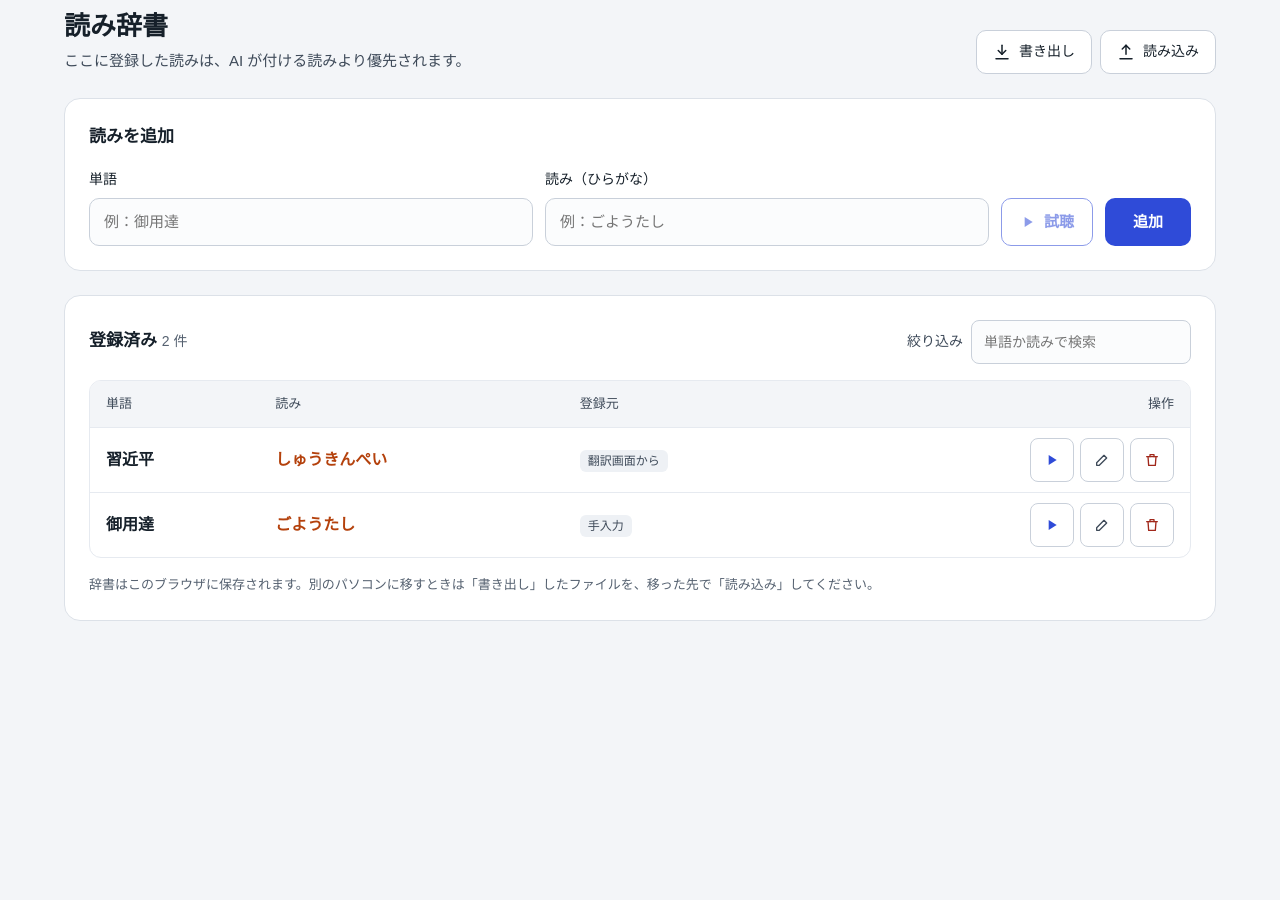
Dictionary 追加 › 漢字を含まない単語は読みを固定できないので追加しない
Step 1. Type "NATO" into the field labelled "単語" → (311, 222), box [89,198,533,246]
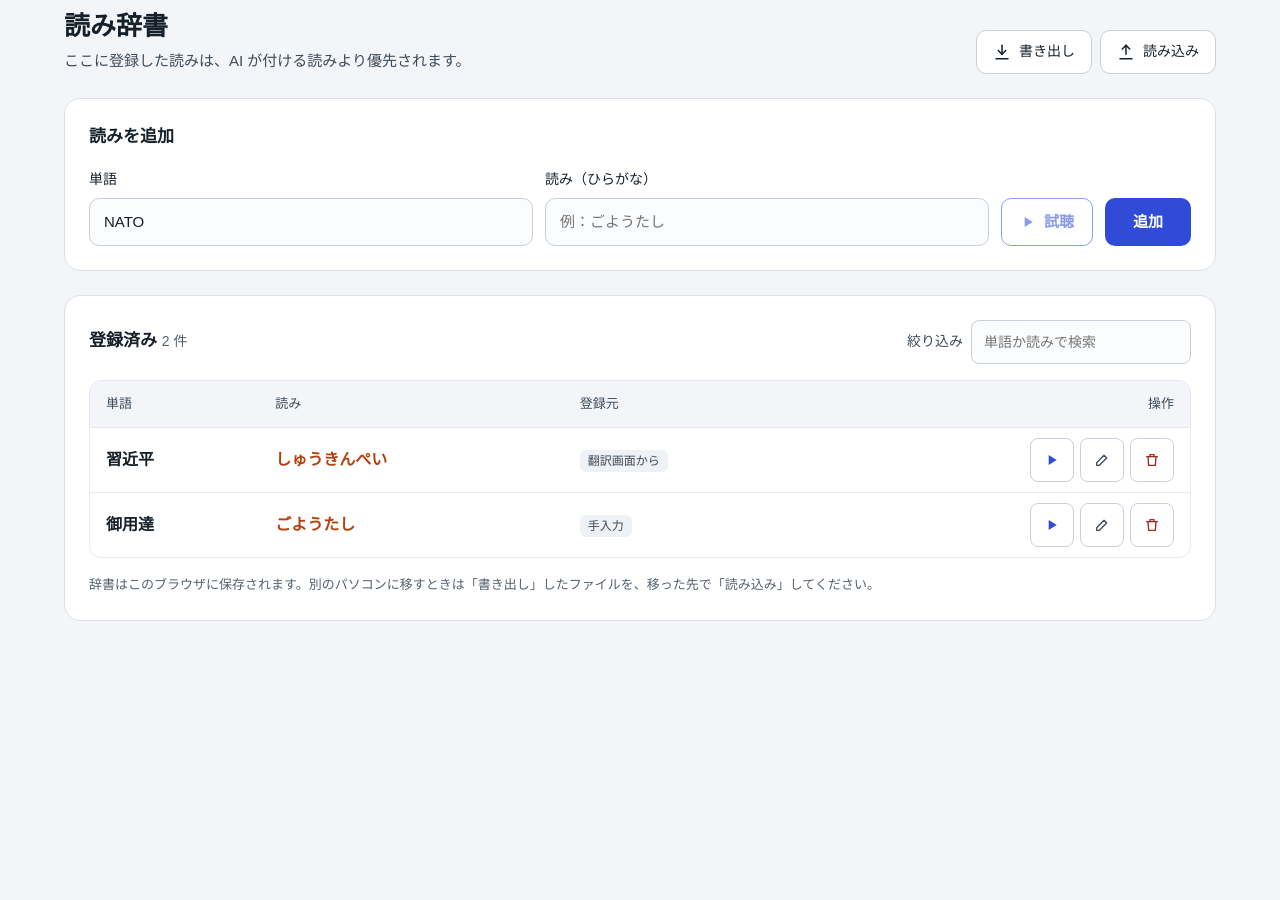
Step 2. Type "なとー" into the field labelled "読み（ひらがな）" → (767, 222), box [545,198,989,246]
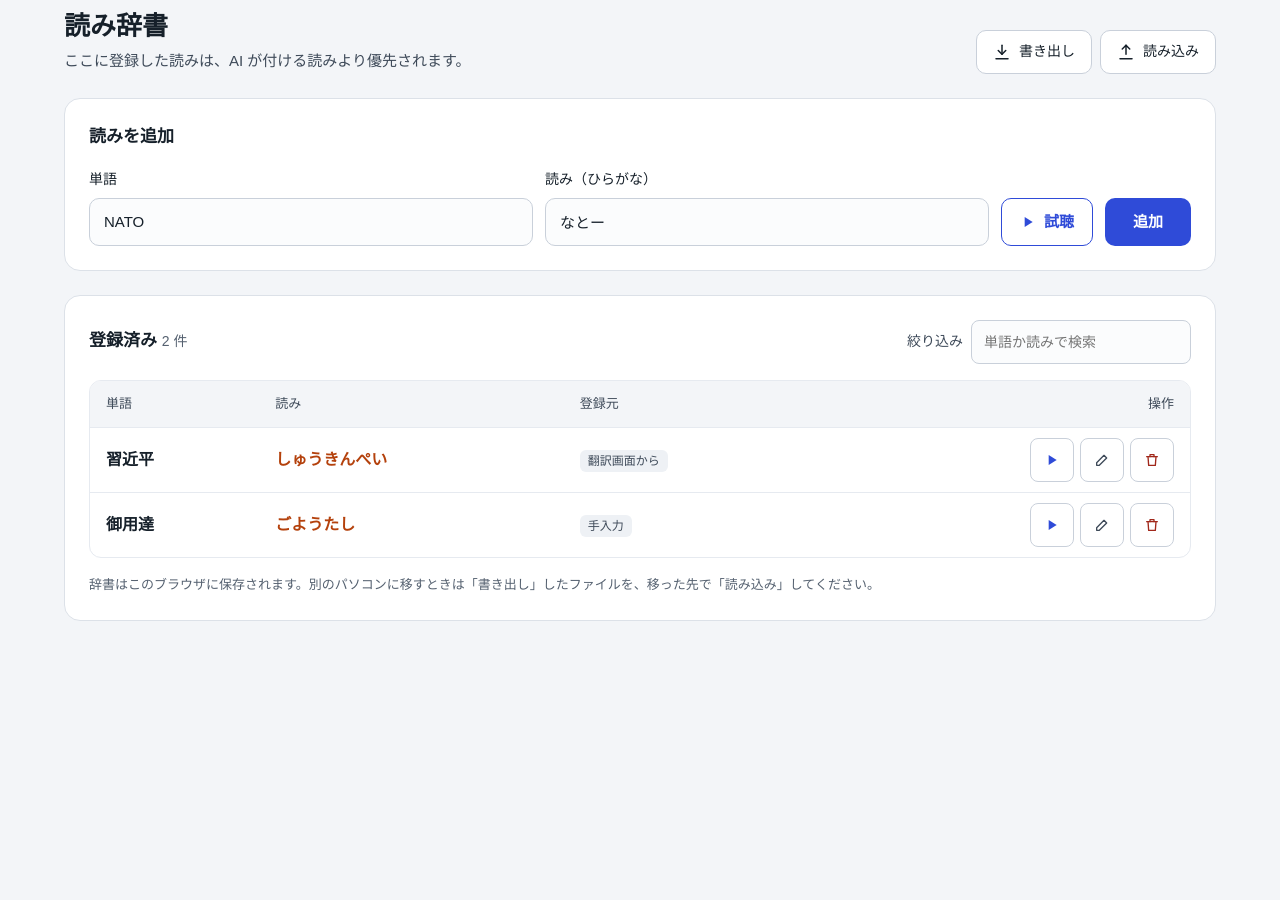
Step 3. Click the button "追加" → (1148, 222), box [1105,198,1191,246]
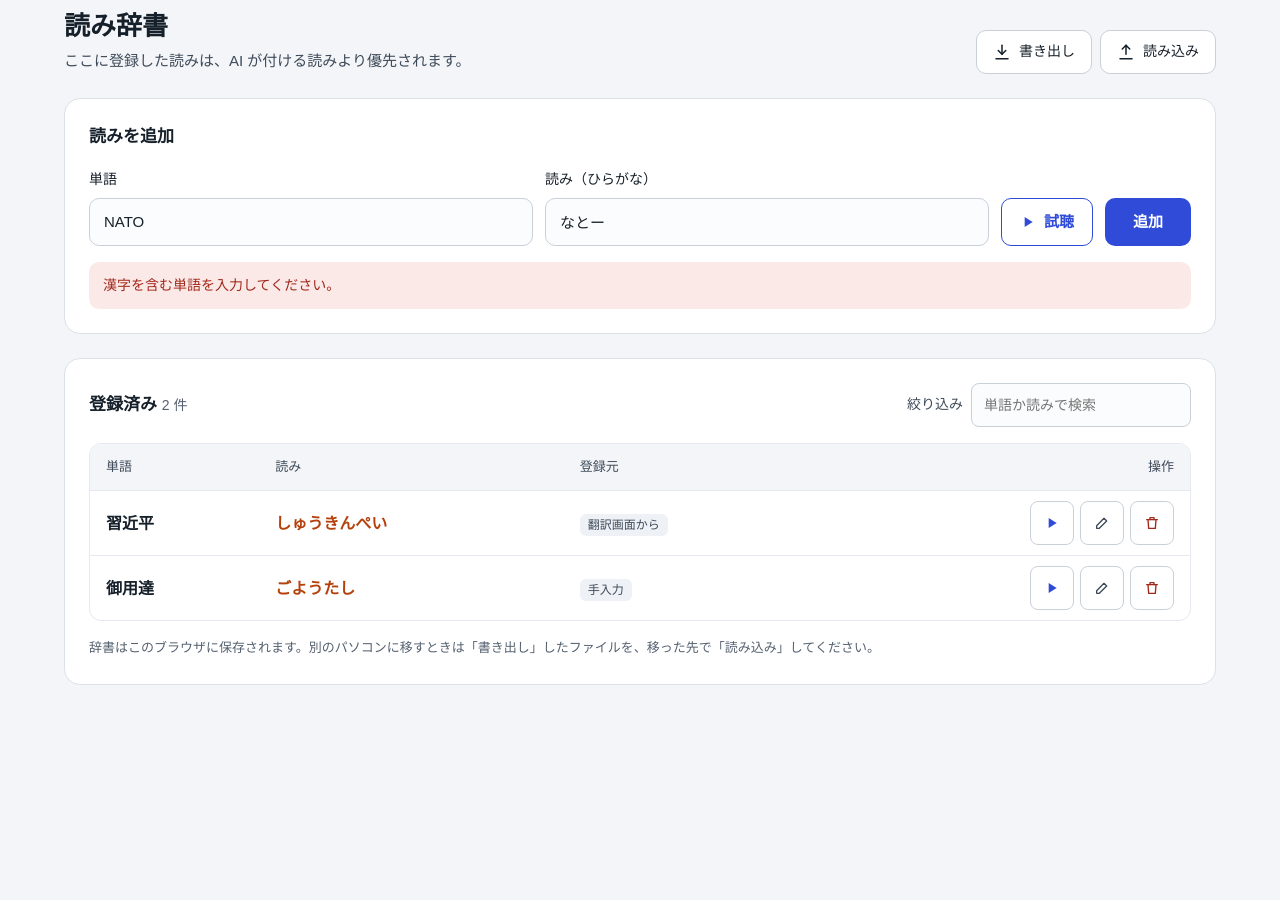
Check: the message reads "漢字を含む単語を入力してください。", box [103,277,340,293]
